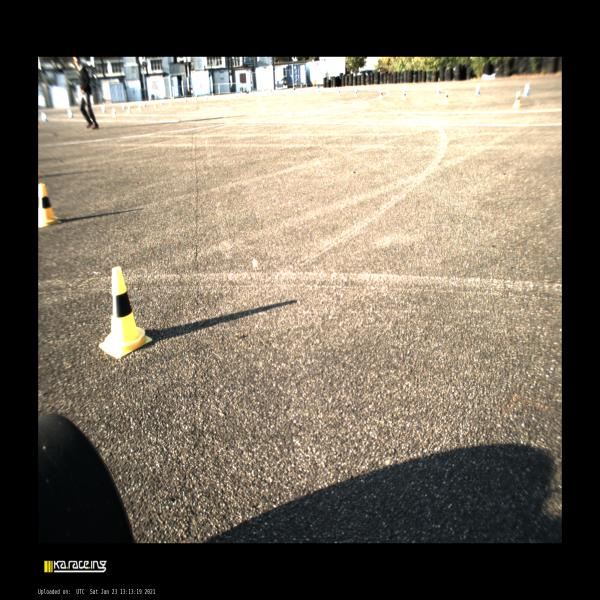blue_cone: (522, 83, 530, 96), (40, 112, 48, 122), (475, 84, 480, 94), (436, 85, 441, 93), (68, 110, 73, 117), (102, 106, 106, 113), (378, 85, 382, 92), (403, 85, 406, 92), (122, 104, 126, 109), (161, 99, 164, 105), (144, 102, 146, 107), (186, 97, 188, 102), (356, 86, 358, 91), (206, 95, 208, 99), (236, 94, 238, 97)
yellow_cone: (99, 267, 152, 358), (38, 183, 62, 227), (512, 91, 521, 108), (442, 90, 450, 103), (112, 108, 117, 118), (403, 92, 408, 100), (380, 90, 384, 99), (127, 106, 132, 113), (138, 104, 142, 112), (154, 102, 158, 108), (169, 100, 172, 105), (195, 97, 198, 102), (355, 90, 357, 96), (318, 89, 320, 95), (338, 90, 340, 95), (218, 95, 220, 99), (242, 94, 244, 98)
